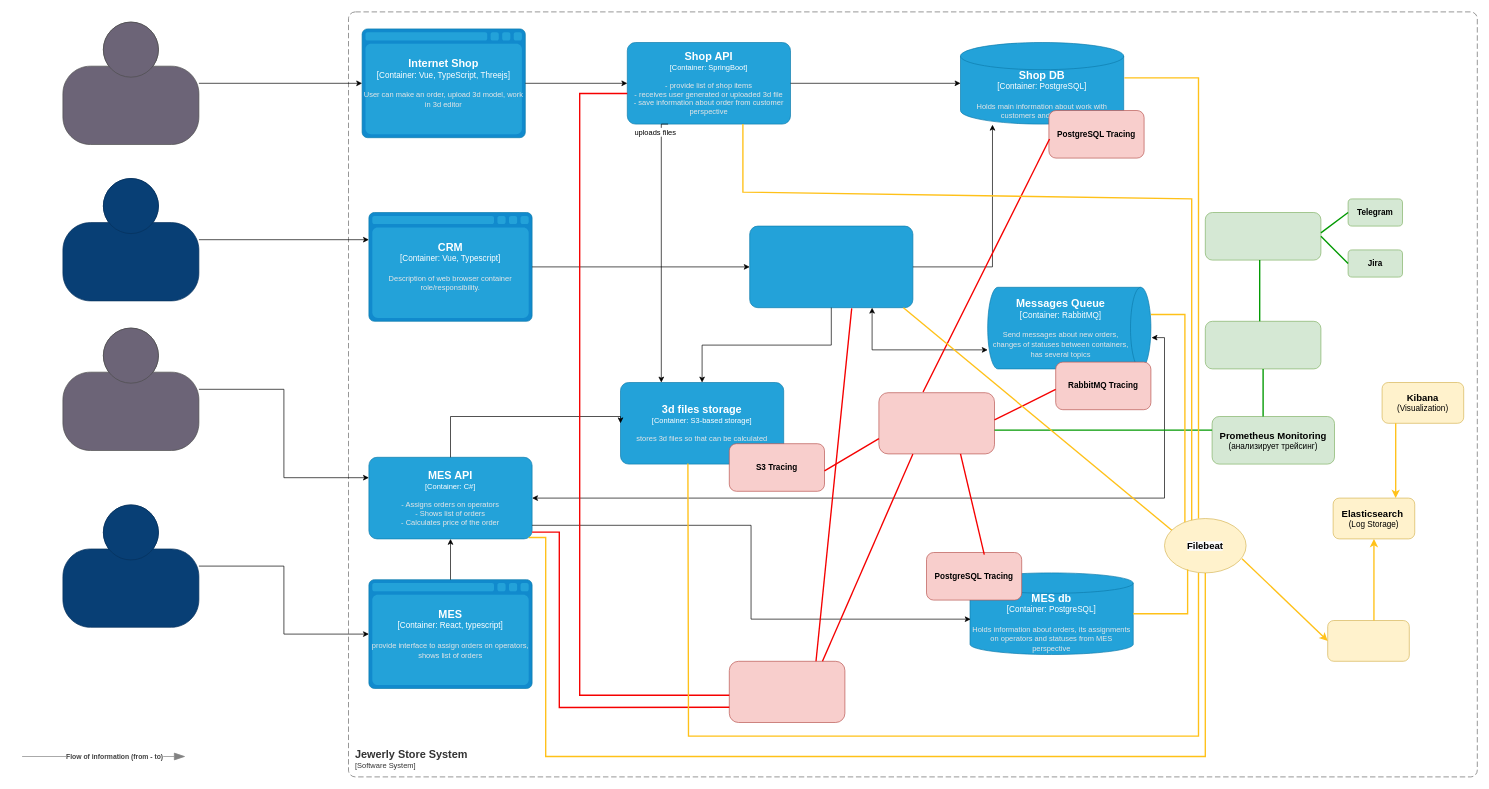
This 1489x789 diagram has some shape labels left out. The shapes that lost their labels are listed below. From the top down, each one's box as (x1, y1, x2, y2) in pixels, then its label:
(62, 21, 199, 144): Customer [Person] Description of external person.
(62, 178, 199, 301): Seller [Person] Operates with order, confirms manufacturing for the user
(1205, 212, 1321, 260): Alertmanager (рассылает алерты)
(749, 225, 913, 308): CRM API [Container: SpringBoot] Description of container role/responsibility.
(1205, 321, 1321, 369): Grafana Alerting ( контролирует SLA)
(62, 327, 199, 451): API user [Person] Description of external person.
(878, 392, 995, 454): Jaeger Tracing
(62, 504, 199, 627): Operator [Person] Takes order in work, manufactures jewerly
(1327, 620, 1409, 661): Logstash (Processing)
(729, 661, 845, 722): OpenTelemetry SDK
